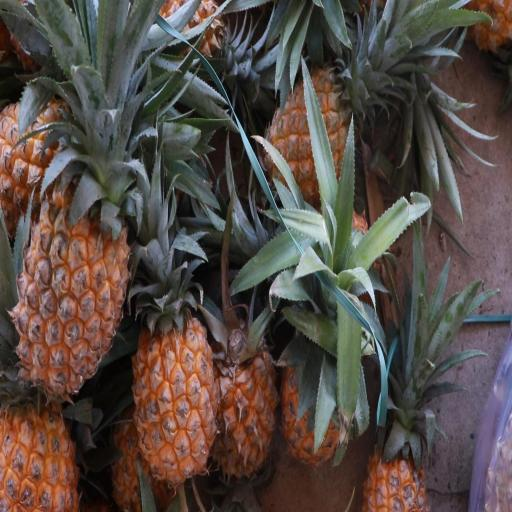Pineapple - v8 v1: (7, 162, 129, 404), (262, 61, 369, 222), (129, 306, 219, 488), (0, 366, 85, 512), (216, 312, 282, 487), (282, 313, 352, 476)
